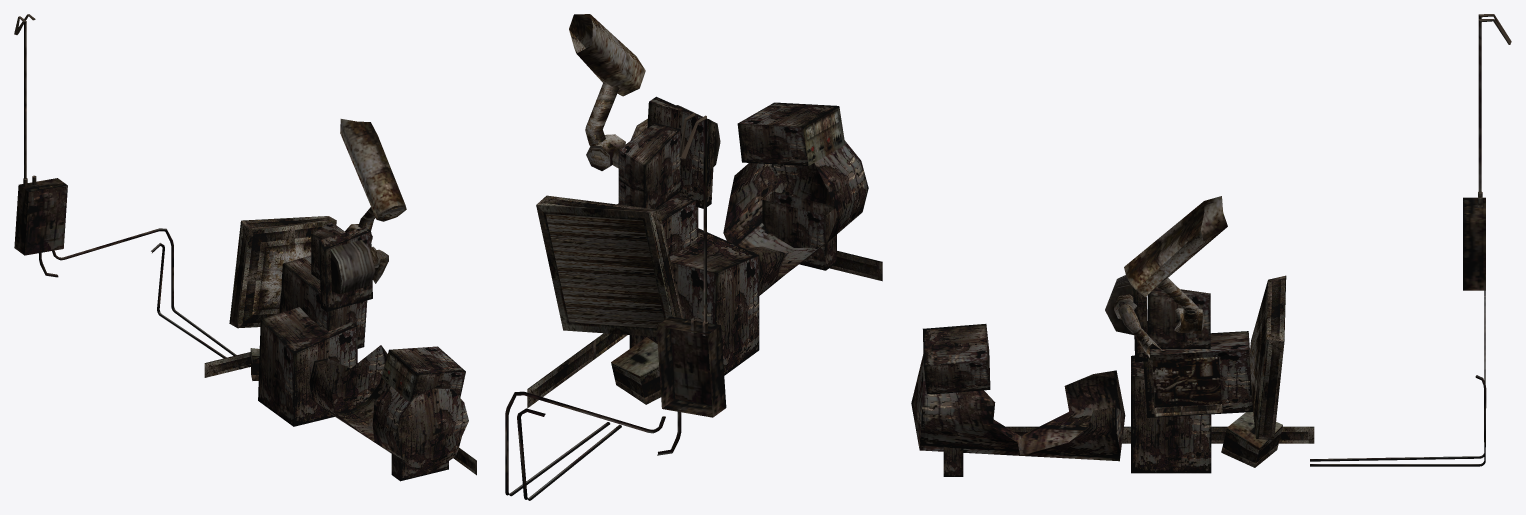
Rendered from PwrgenX.glb.
The picture shows the model from 3 angles, left to right: view 1: azimuth 30°, elevation 25°; view 2: azimuth 150°, elevation 25°; view 3: azimuth 270°, elevation 25°; orthographic projection. The views are drawn at different scales.
Visible parts, largest first — view 1: _PwrgenX; view 2: _PwrgenX; view 3: _PwrgenX.
Part boxes in pixels (<box>): _PwrgenX: <box>14,14,476,481</box>; _PwrgenX: <box>505,14,882,500</box>; _PwrgenX: <box>911,14,1511,476</box>.
Bounding box in the file's own units: 3.72 × 4.94 × 7.24.
3 materials, 3 textured.
